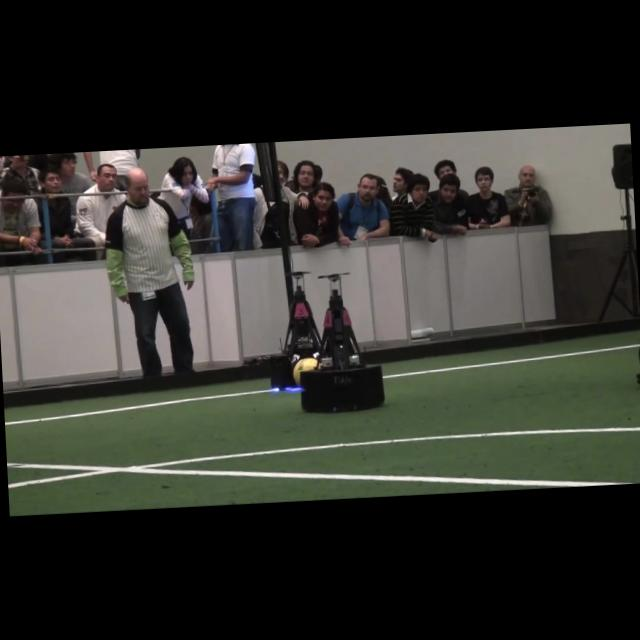ball: (293, 358, 319, 385)
robot: (301, 274, 385, 413), (270, 271, 321, 389)
